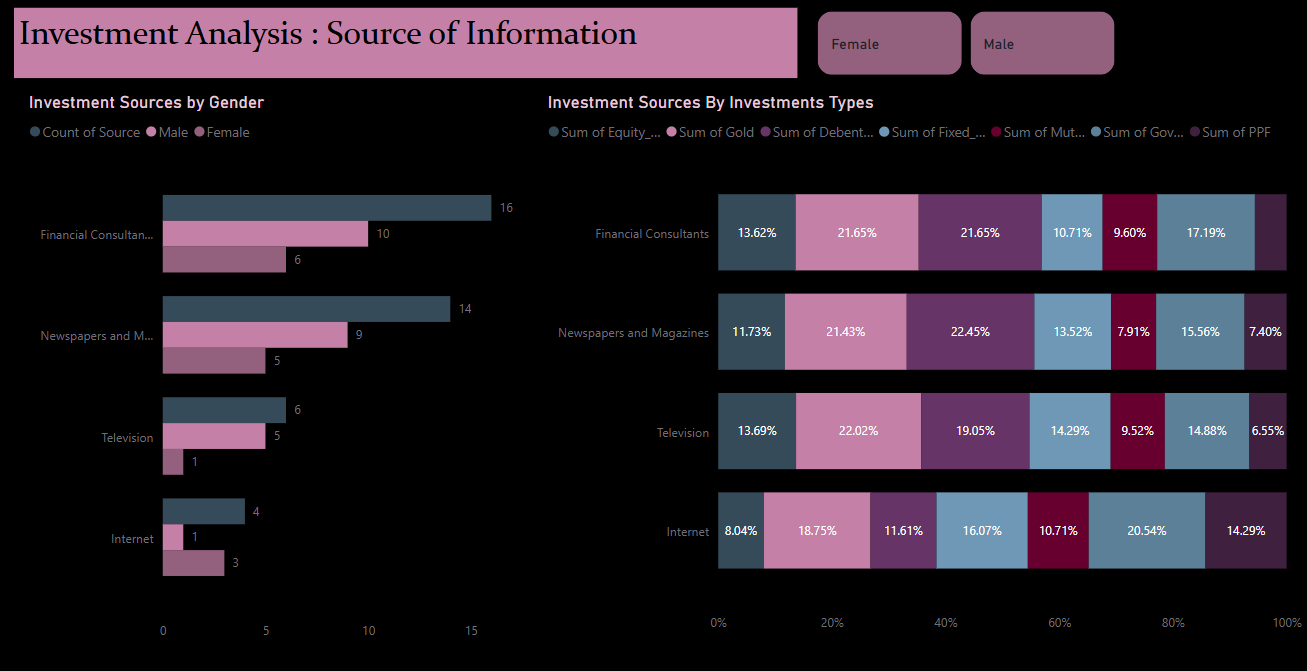

This screenshot's page, from the dashboard's own definition file:
{"tool":"powerbi","page":{"name":"source of info ","canvas":[1280,720],"ordinal":5},"visuals":[{"type":"clusteredBarChart","title":"Investment Sources  by Gender ","fields":{"Category":["POWER BI COGNIFZY.Source"],"Y":["CountNonNull(POWER BI COGNIFZY.Source)","POWER BI COGNIFZY.Male","POWER BI COGNIFZY.Female"]},"box":[25,91,494,546],"z":0},{"type":"hundredPercentStackedBarChart","title":"Investment Sources By Investments Types","fields":{"Category":["POWER BI COGNIFZY.Source"],"Y":["Sum(POWER BI COGNIFZY.Equity_Market)","Sum(POWER BI COGNIFZY.Gold)","Sum(POWER BI COGNIFZY.Debentures)","Sum(POWER BI COGNIFZY.Fixed_Deposits)","Sum(POWER BI COGNIFZY.Mutual_Funds)","Sum(POWER BI COGNIFZY.Government_Bonds)","Sum(POWER BI COGNIFZY.PPF)"]},"box":[531.9,90.5,748.4,538],"z":1000},{"type":"textbox","box":[15,8,766,69],"z":2000},{"type":"advancedSlicerVisual","fields":{"Values":["POWER BI COGNIFZY.gender"]},"box":[796,7,300,72],"z":3000}]}

Visuals, with their boxes on the page's 1280x720 design canvas (x1, y1, x2, y2). These are canvas units, not pixel positions in the 1307x671 screenshot, which may show the page scaled, cropped or inside an application window:
"Investment Sources  by Gender " clusteredBarChart: {"left": 25, "top": 91, "right": 519, "bottom": 637}
"Investment Sources By Investments Types" hundredPercentStackedBarChart: {"left": 532, "top": 90, "right": 1280, "bottom": 628}
textbox: {"left": 15, "top": 8, "right": 781, "bottom": 77}
advancedSlicerVisual - POWER BI COGNIFZY.gender: {"left": 796, "top": 7, "right": 1096, "bottom": 79}
